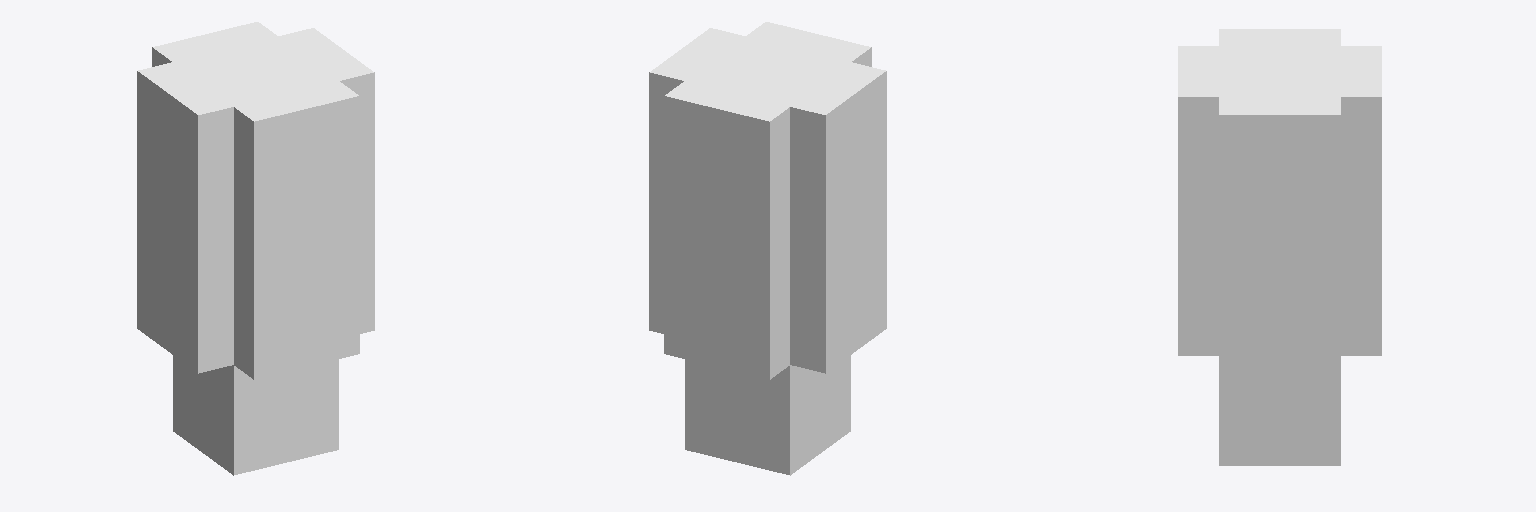
The model's file is myCharacter-4.obj.
3 renders of one model, left to right at view 1: azimuth 30°, elevation 25°; view 2: azimuth 150°, elevation 25°; view 3: azimuth 270°, elevation 25°, orthographic.
Parts seen in each view (by area): view 1: object 1; view 2: object 1; view 3: object 1.
Boxes of the visible parts, box(x1,y1,x2,y2) form: object 1: box(137, 22, 374, 475); object 1: box(649, 22, 886, 475); object 1: box(1178, 29, 1381, 465).
Bounding box in the file's own units: 0.5 × 1 × 0.5.